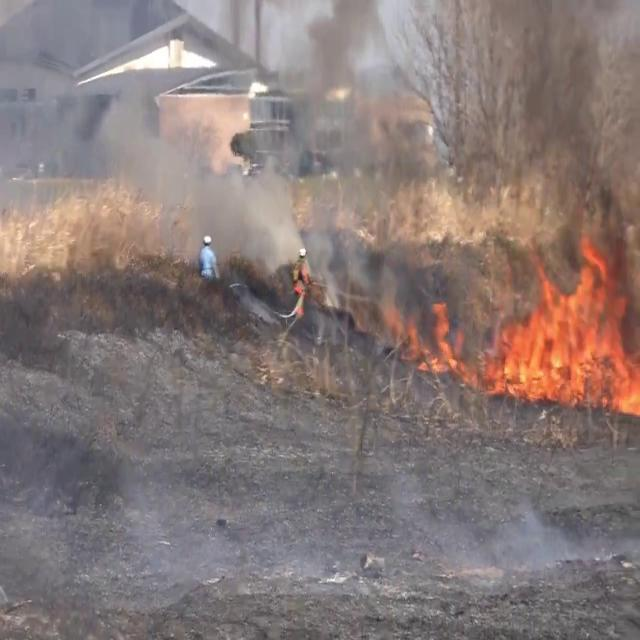Fire: (483, 236, 640, 416), (379, 286, 461, 376)
Smoke: (21, 0, 640, 274)
